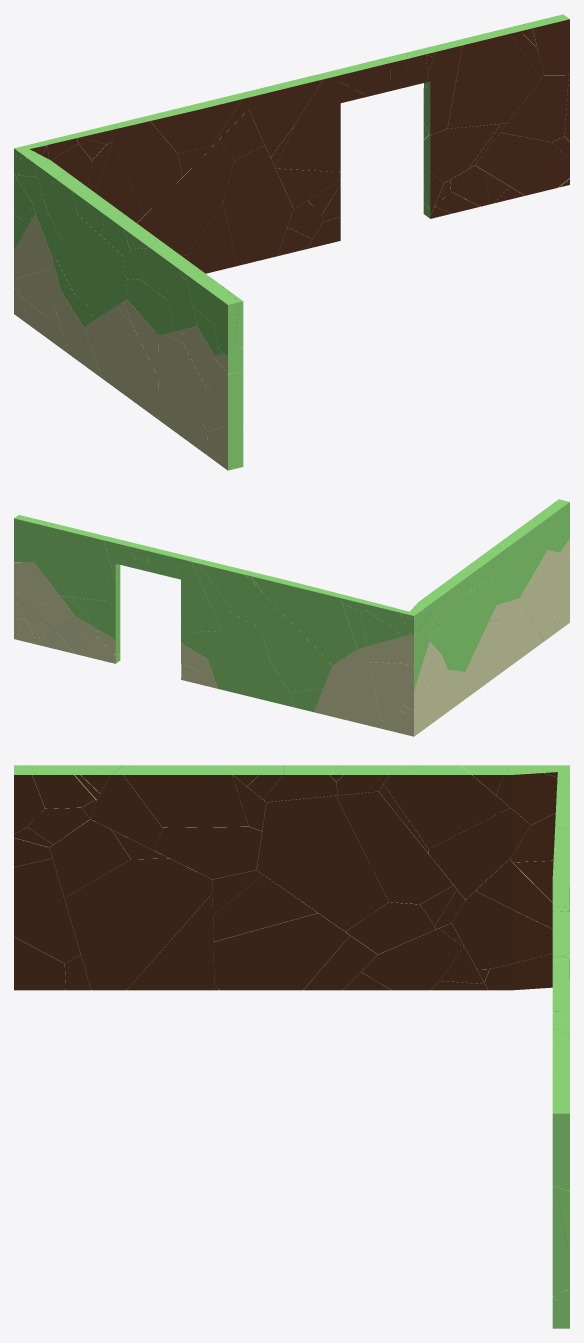
The model's file is Office Walls.fbx.
3 views of the same model, one above another, from view 1: azimuth 30°, elevation 25°; view 2: azimuth 150°, elevation 25°; view 3: azimuth 270°, elevation 25° (orthographic). The views are drawn at different scales.
Parts seen in each view (by area): view 1: Office Walls_cell.014_cell.003, Office Walls_cell.026_cell.002, Office Walls_cell.026_cell.001, Office Walls_cell.024_cell.002, Office Walls_cell.030_cell.001, Office Walls_cell.008_cell.003, Office Walls_cell.035_cell.001, Office Walls_cell.024_cell.001, Office Walls_cell.008_cell.006, Office Walls_cell.035_cell.004, Office Walls_cell.014_cell.005, Office Walls_cell.016_cell (+36 smaller); view 2: Office Walls_cell.026_cell.002, Office Walls_cell.014_cell.003, Office Walls_cell.026_cell.001, Office Walls_cell.010_cell.007, Office Walls_cell.008_cell.003, Office Walls_cell.030_cell.001, Office Walls_cell.010_cell.004, Office Walls_cell.024_cell.002, Office Walls_cell.008_cell.006, Office Walls_cell.010_cell.006, Office Walls_cell.016_cell, Office Walls_cell.026_cell.003 (+43 smaller); view 3: Office Walls_cell.016_cell, Office Walls_cell.025_cell.003, Office Walls_cell.030_cell.001, Office Walls_cell.025_cell.001, Office Walls_cell.017_cell, Office Walls_cell.001_cell.001, Office Walls_cell.003_cell.003, Office Walls_cell.031_cell.001, Office Walls_cell.017_cell.004, Office Walls_cell.001_cell.003, Office Walls_cell.016_cell.001, Office Walls_cell.018_cell.002 (+29 smaller).
Part boxes in pixels (<box>): Office Walls_cell.014_cell.003: <box>445,31,540,128</box>; Office Walls_cell.026_cell.002: <box>223,145,293,265</box>; Office Walls_cell.026_cell.001: <box>137,140,234,255</box>; Office Walls_cell.024_cell.002: <box>275,74,368,171</box>; Office Walls_cell.030_cell.001: <box>90,306,158,413</box>; Office Walls_cell.008_cell.003: <box>112,115,182,214</box>; Office Walls_cell.035_cell.001: <box>475,132,569,195</box>; Office Walls_cell.024_cell.001: <box>245,76,322,157</box>; Office Walls_cell.008_cell.006: <box>149,94,242,153</box>; Office Walls_cell.035_cell.004: <box>500,75,568,142</box>; Office Walls_cell.014_cell.005: <box>423,124,500,182</box>; Office Walls_cell.016_cell: <box>159,334,207,448</box>; Office Walls_cell.026_cell.002: <box>208,612,270,699</box>; Office Walls_cell.014_cell.003: <box>38,525,110,600</box>; Office Walls_cell.026_cell.001: <box>261,608,332,692</box>; Office Walls_cell.010_cell.007: <box>314,650,380,727</box>; Office Walls_cell.008_cell.003: <box>291,589,347,661</box>; Office Walls_cell.030_cell.001: <box>469,619,519,688</box>; Office Walls_cell.010_cell.004: <box>369,656,424,720</box>; Office Walls_cell.024_cell.002: <box>164,557,221,631</box>; Office Walls_cell.008_cell.006: <box>252,573,322,621</box>; Office Walls_cell.010_cell.006: <box>357,634,426,664</box>; Office Walls_cell.016_cell: <box>519,578,555,641</box>; Office Walls_cell.026_cell.003: <box>229,575,276,628</box>; Office Walls_cell.016_cell: <box>64,858,212,990</box>; Office Walls_cell.025_cell.003: <box>256,796,388,931</box>; Office Walls_cell.030_cell.001: <box>213,913,350,990</box>; Office Walls_cell.025_cell.001: <box>336,791,453,904</box>; Office Walls_cell.017_cell: <box>384,765,509,848</box>; Office Walls_cell.001_cell.001: <box>123,765,248,827</box>; Office Walls_cell.003_cell.003: <box>451,891,552,969</box>; Office Walls_cell.031_cell.001: <box>14,858,80,963</box>; Office Walls_cell.017_cell.004: <box>429,807,530,899</box>; Office Walls_cell.001_cell.003: <box>154,826,262,879</box>; Office Walls_cell.016_cell.001: <box>127,893,214,990</box>; Office Walls_cell.018_cell.002: <box>361,928,463,990</box>.
Size of the model in its own units: 1039 by 299 by 701.
